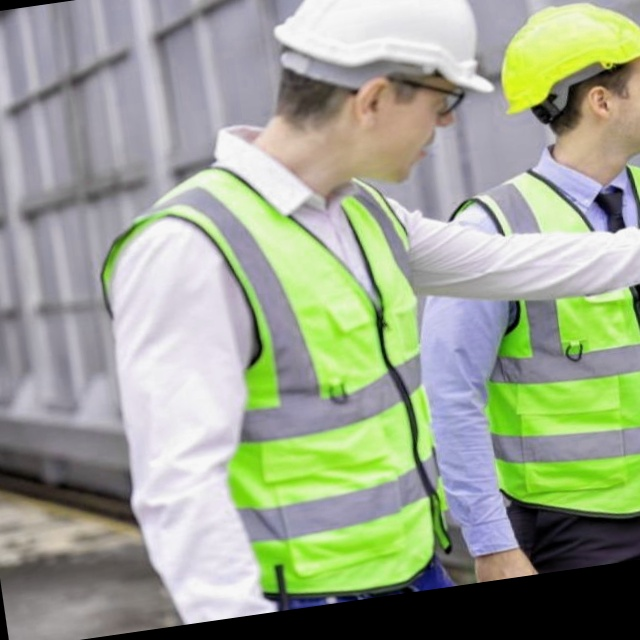Con_Chaleco: (87, 151, 456, 610), (444, 153, 640, 531)
